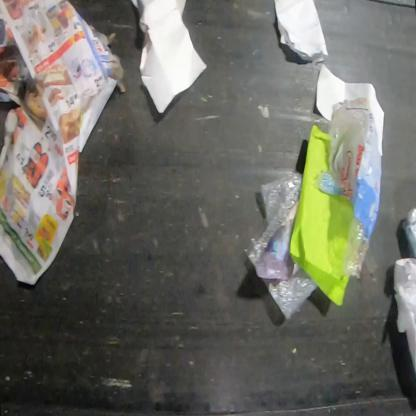cardboard: (400, 205, 416, 261)
soft_plastic: (308, 96, 384, 280), (244, 171, 319, 320)
